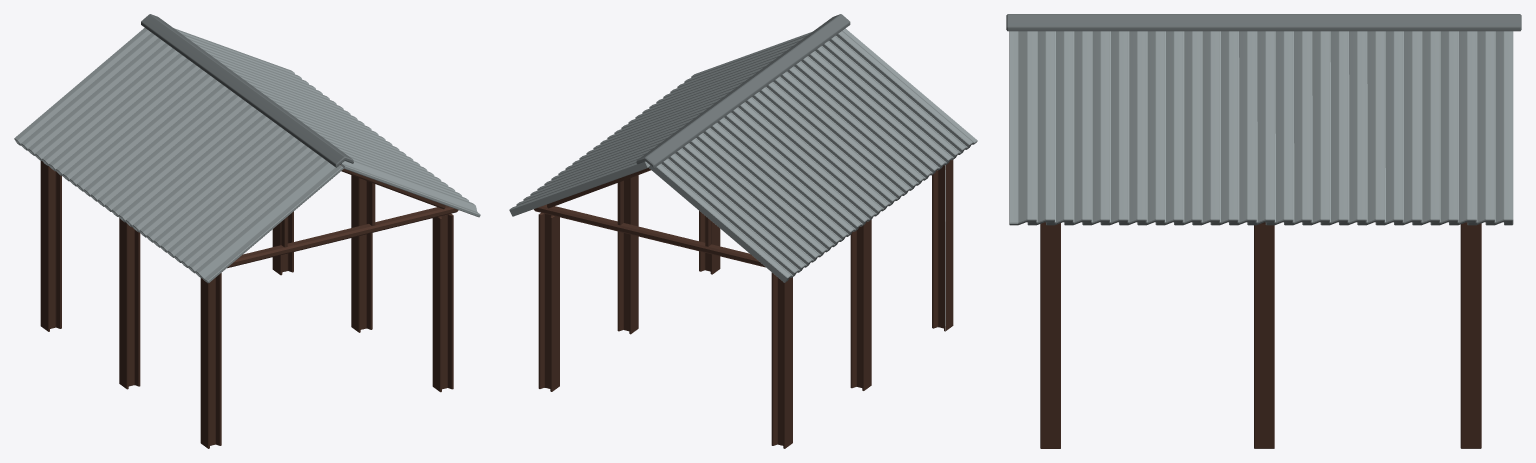
The model's file is RoofedStorage.fbx.
3 views of the same model, side by side, from view 1: azimuth 30°, elevation 25°; view 2: azimuth 150°, elevation 25°; view 3: azimuth 270°, elevation 25° (orthographic). The views are drawn at different scales.
Visible parts, largest first — view 1: polySurface12, pCube19, pCube6, pCube18; view 2: polySurface12, pCube19, pCube6, pCube18; view 3: polySurface12, pCube19, pCube6.
Boxes of the visible parts, x1=… form: polySurface12: x1=14, y1=28, x2=480, y2=283; pCube19: x1=40, y1=161, x2=453, y2=448; pCube6: x1=141, y1=14, x2=353, y2=167; pCube18: x1=227, y1=165, x2=458, y2=268; polySurface12: x1=509, y1=28, x2=977, y2=282; pCube19: x1=538, y1=160, x2=953, y2=448; pCube6: x1=636, y1=14, x2=850, y2=167; pCube18: x1=534, y1=167, x2=765, y2=267; polySurface12: x1=1009, y1=31, x2=1513, y2=225; pCube19: x1=1040, y1=222, x2=1481, y2=448; pCube6: x1=1006, y1=14, x2=1521, y2=31.
Size of the model in its own units: 15.34 by 14.33 by 18.74.
